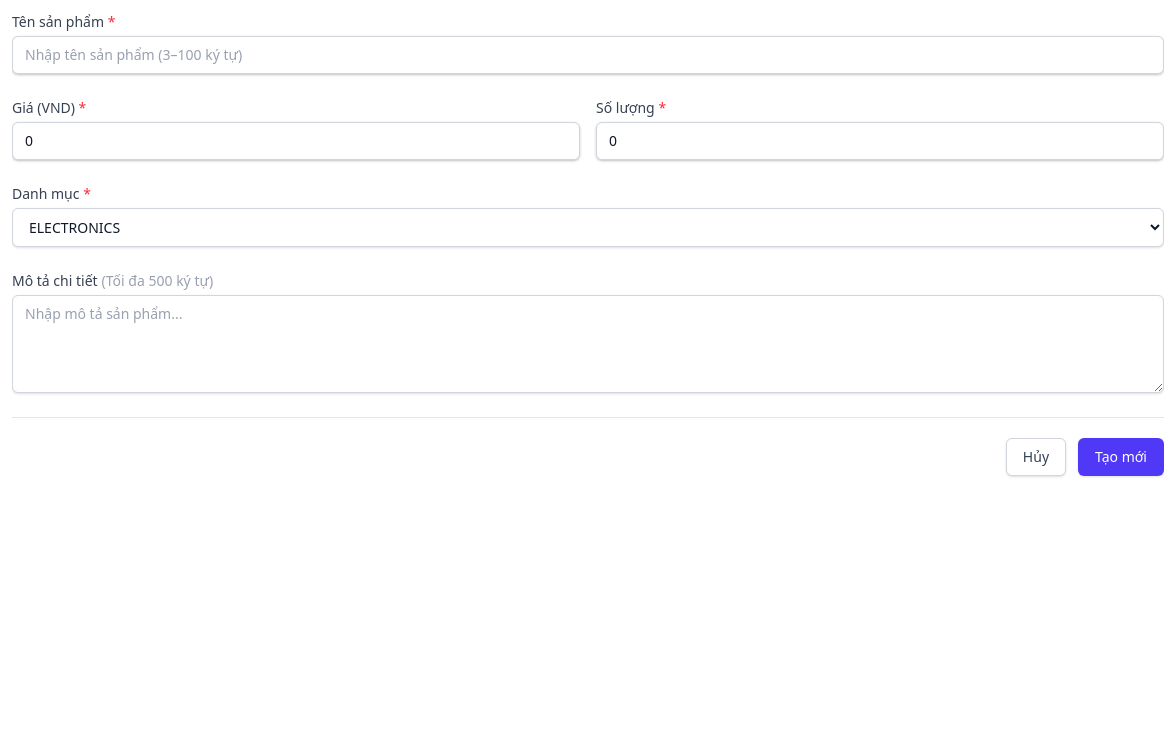
Test: ProductForm Integration Tests › TC2: Khong nhap form - hien thị loi & khong goi API
Click the button with test id "submit-button" at (1121, 457), box left=1078, top=438, right=1164, bottom=476
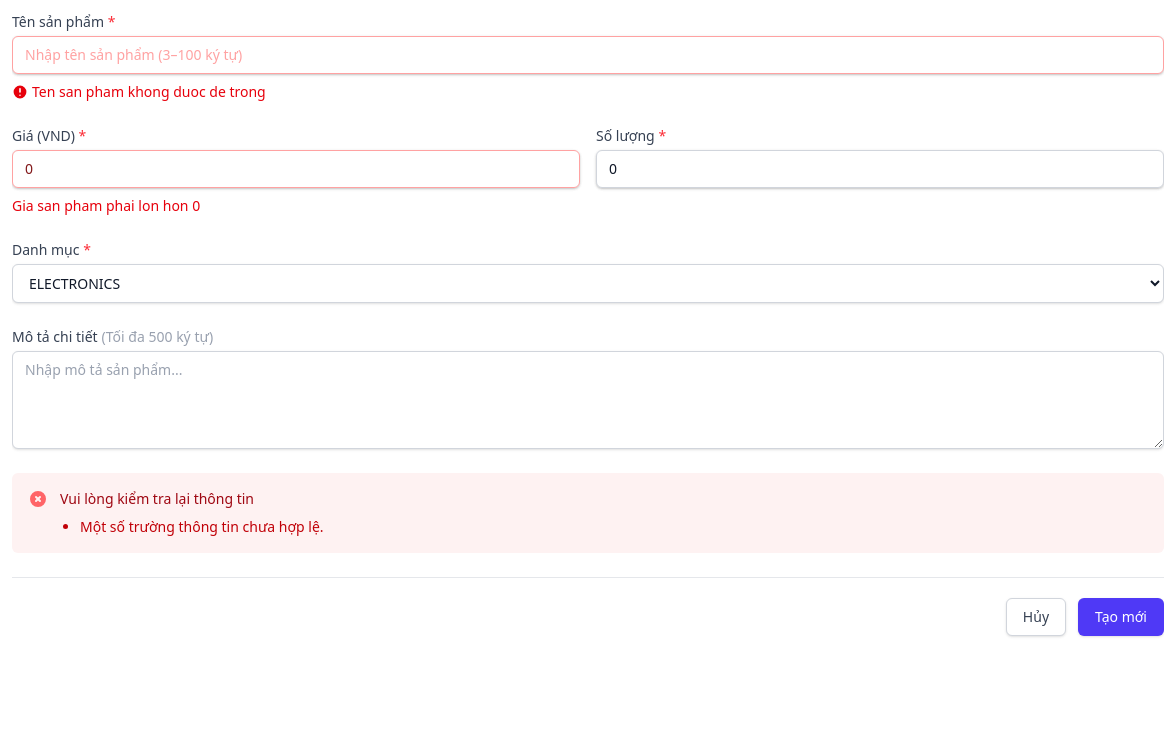
expect the element with test id "error-name" is shown: met, box left=12, top=82, right=266, bottom=101
expect the element with test id "summary-errors" is shown: met, box left=12, top=473, right=1164, bottom=553
